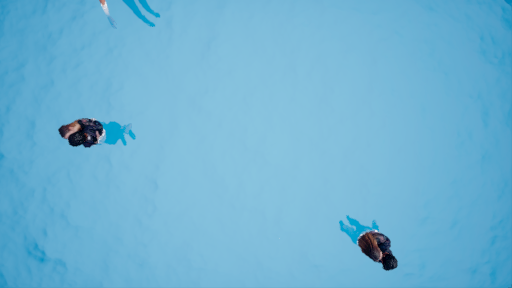person: (333, 213, 406, 269), (55, 115, 140, 157)
